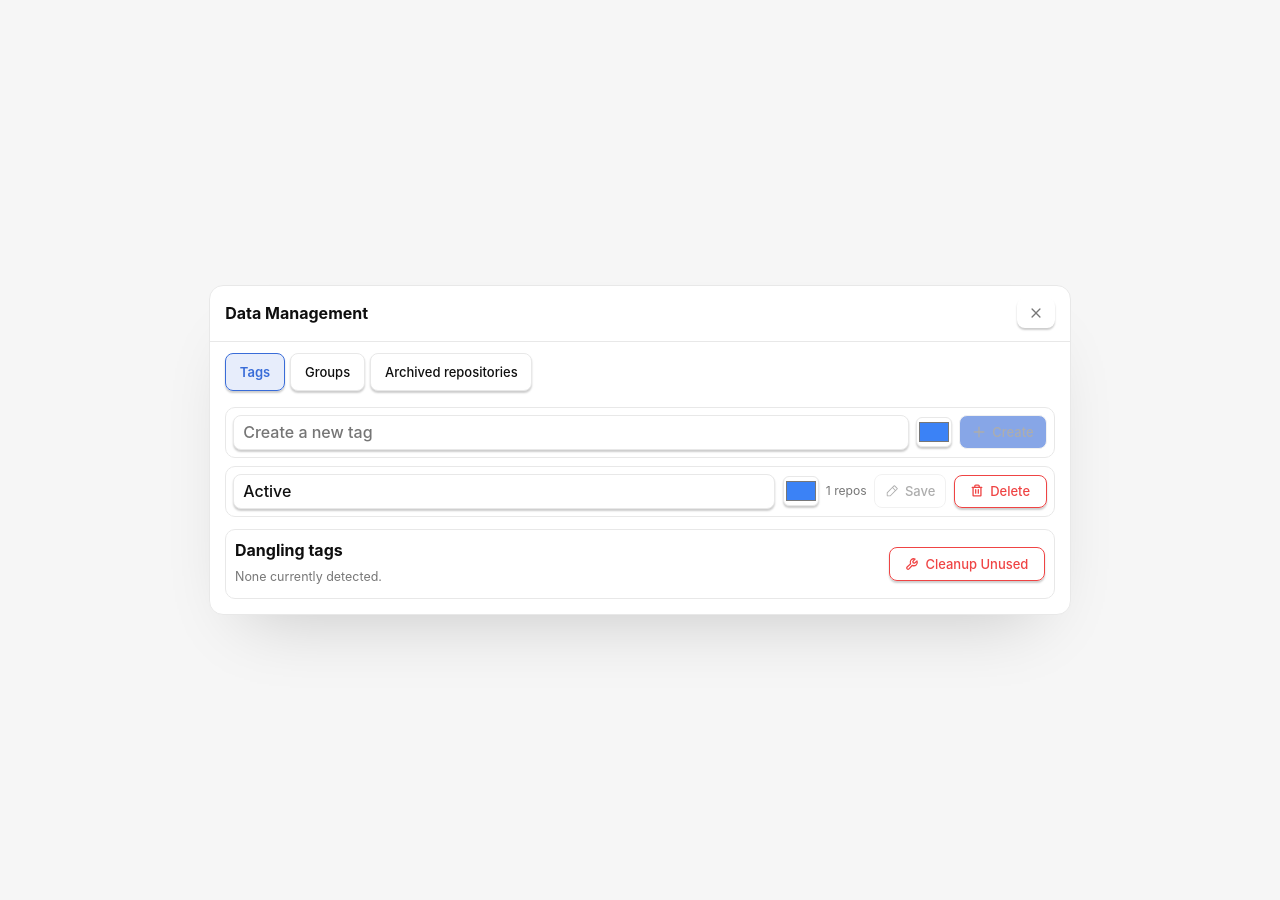
Test: SettingsManagementModal › keeps the management modal open when Escape closes a child confirmation
The image size is (1280, 900).
Click the button "Delete" at (1000, 491), box [954, 475, 1047, 508]
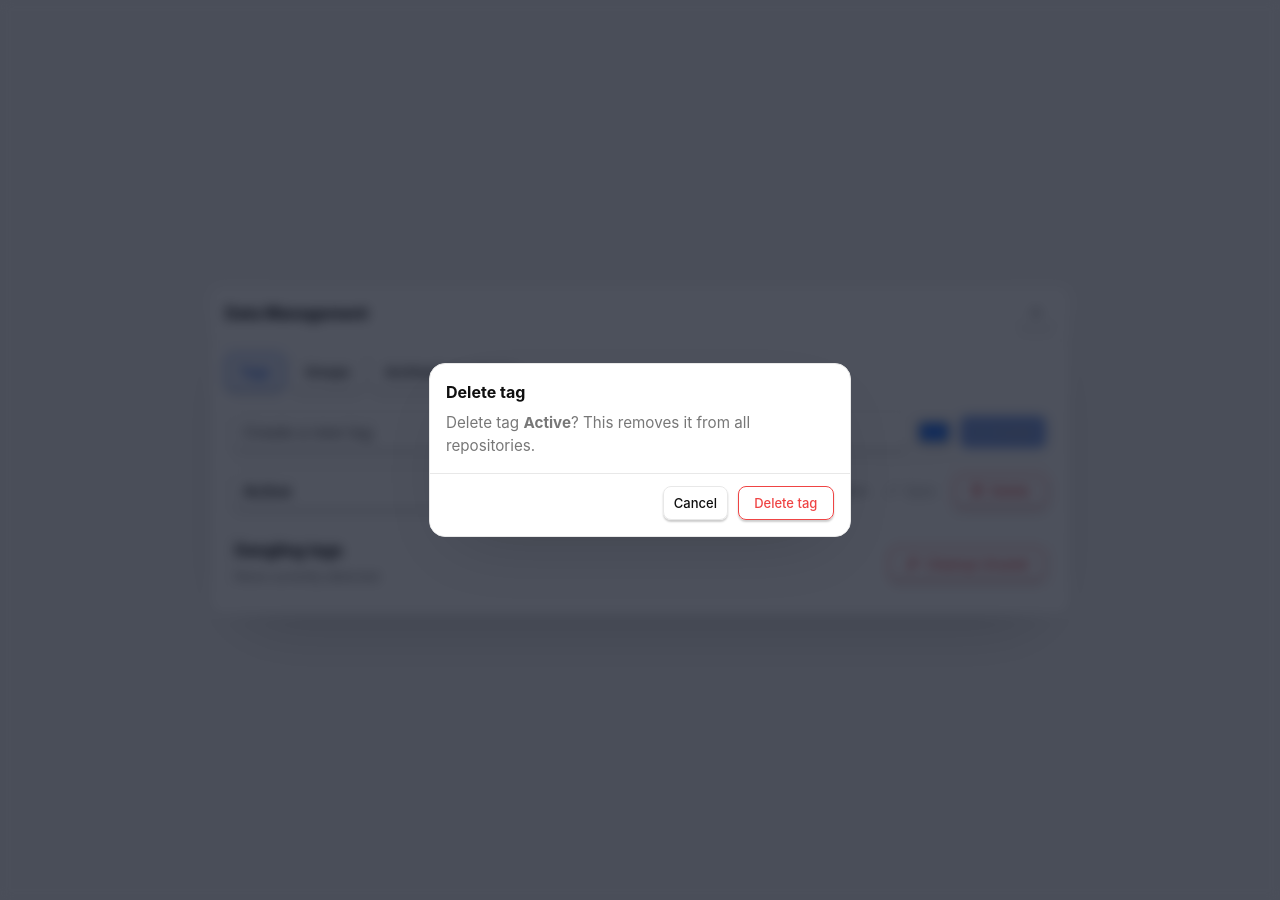
Check: the dialog "Delete tag" is shown, box [429, 363, 851, 537]
Press Escape
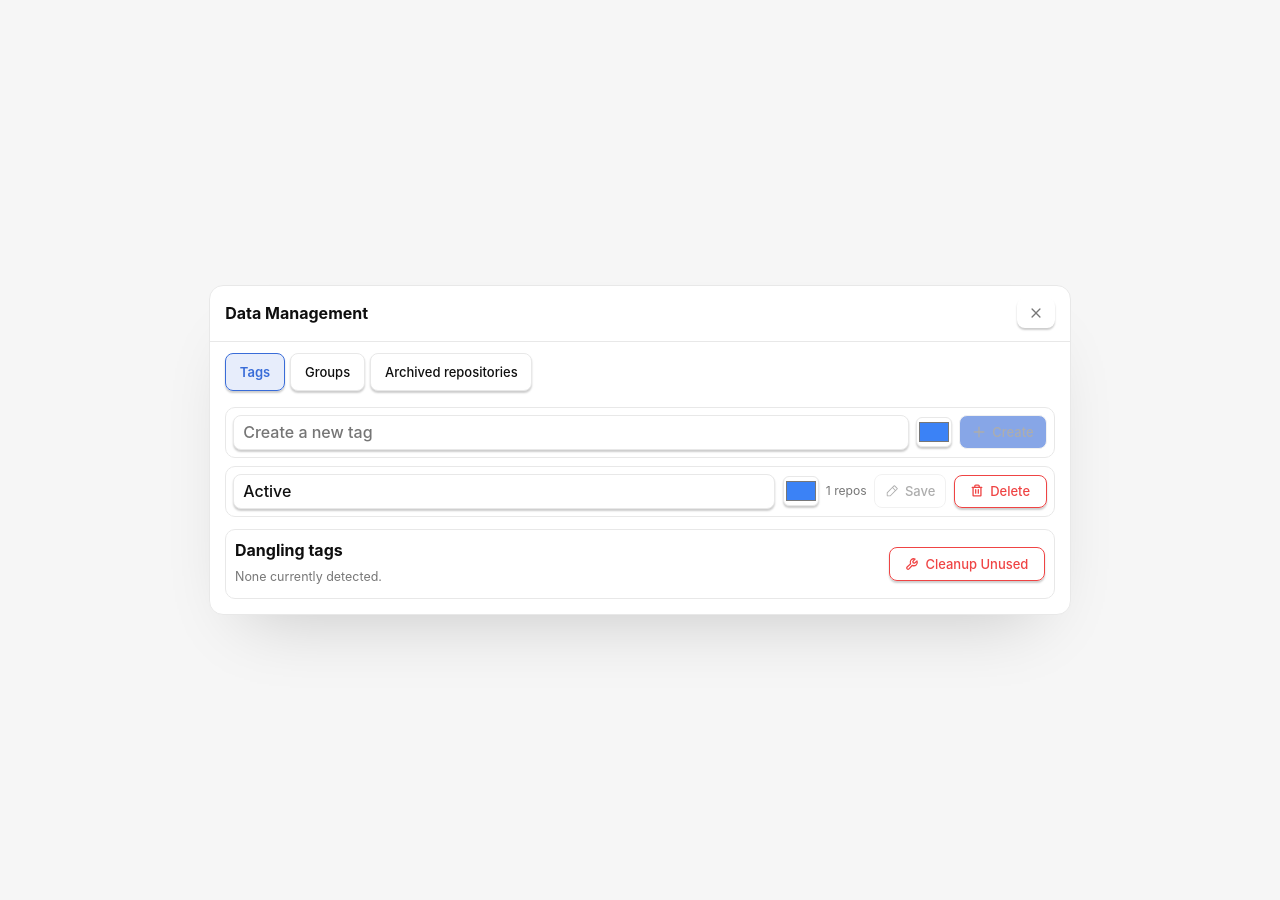
Check: the dialog "Data Management" is shown, box [209, 284, 1071, 615]
Check: the heading "Delete tag" is gone
